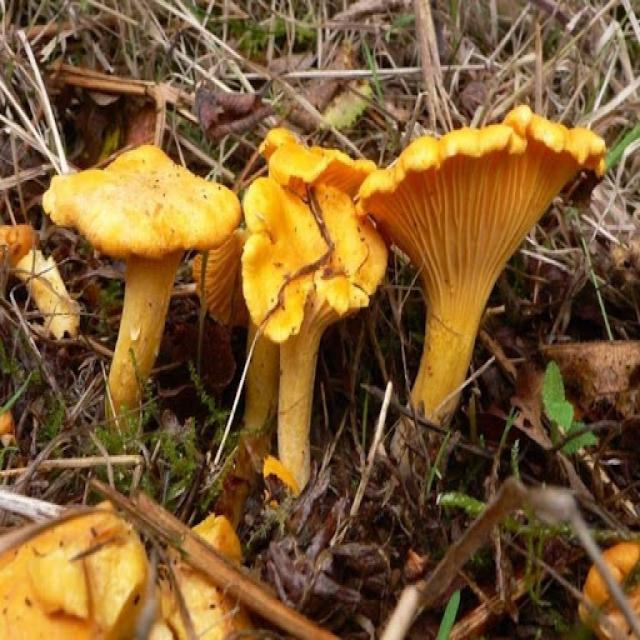chanterelle: (358, 107, 608, 423), (41, 143, 245, 392), (241, 178, 388, 492)
